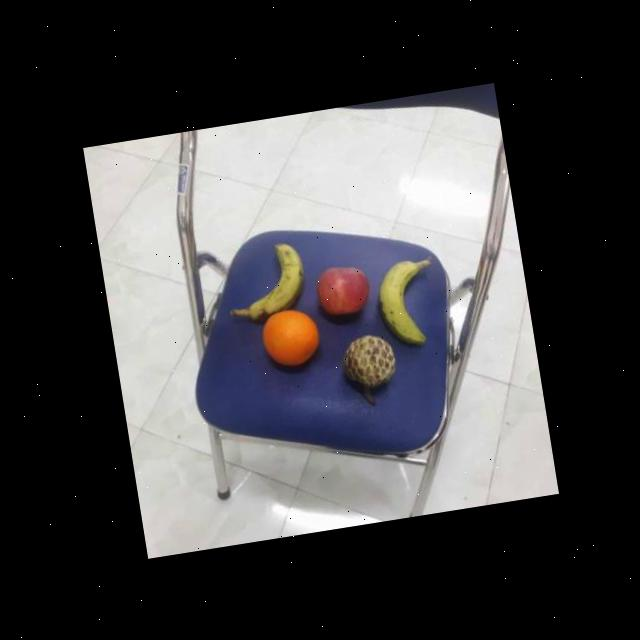Sakya fruit: (336, 330, 402, 392)
apple: (309, 260, 372, 322)
banana: (227, 236, 313, 321), (370, 254, 446, 348)
orange: (254, 303, 321, 372)
